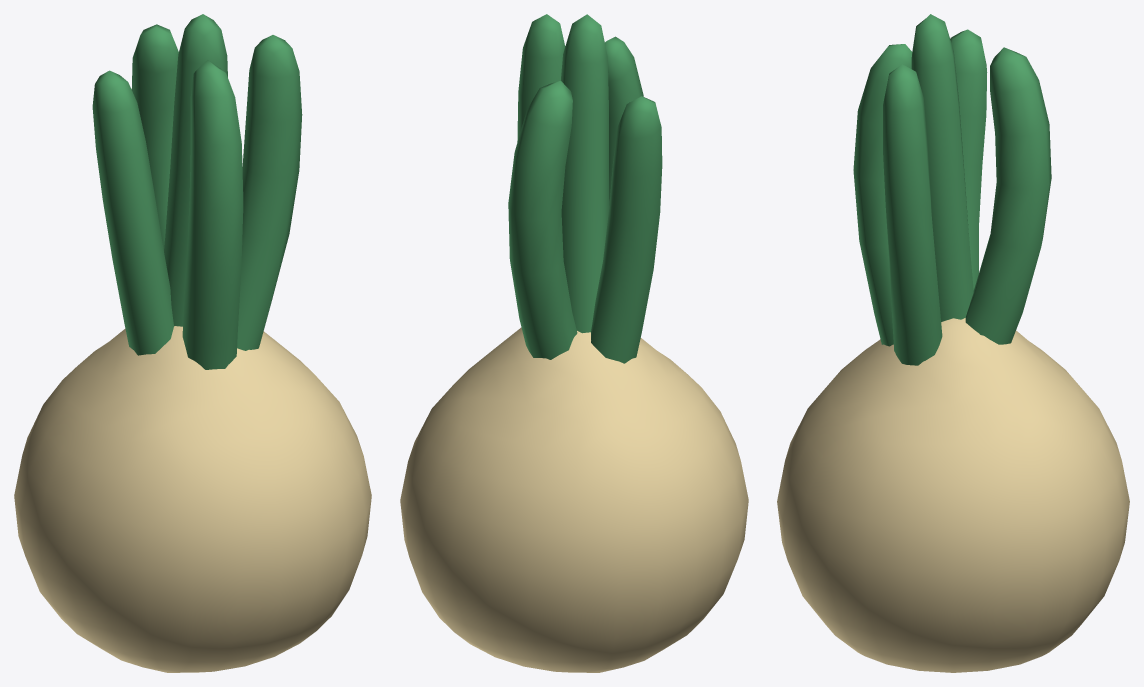
The model's file is Onion_03.dae.
3 renders of one model, left to right at view 1: azimuth 30°, elevation 25°; view 2: azimuth 150°, elevation 25°; view 3: azimuth 270°, elevation 25°, orthographic. The views are drawn at different scales.
Parts seen in each view (by area): view 1: Onion_03_LOD0; view 2: Onion_03_LOD0; view 3: Onion_03_LOD0.
Part boxes in pixels (bbox=[...]): Onion_03_LOD0: bbox=[14, 14, 371, 672]; Onion_03_LOD0: bbox=[400, 14, 748, 672]; Onion_03_LOD0: bbox=[777, 14, 1129, 672].
Size of what is drawn, in the model's own units: 3.47 by 3.49 by 6.94.
